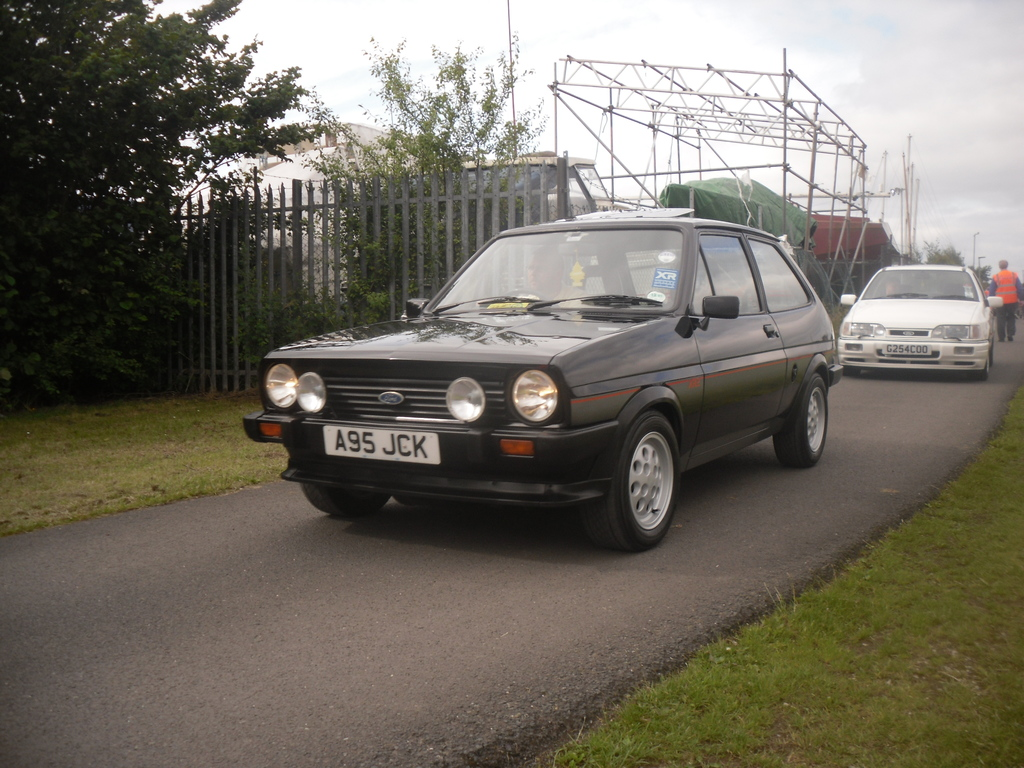Car: (245, 209, 844, 556), (832, 257, 1009, 385)
